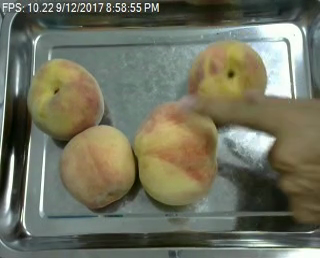Peach: (132, 105, 217, 206), (60, 125, 136, 211), (26, 57, 104, 138), (191, 40, 266, 97)
